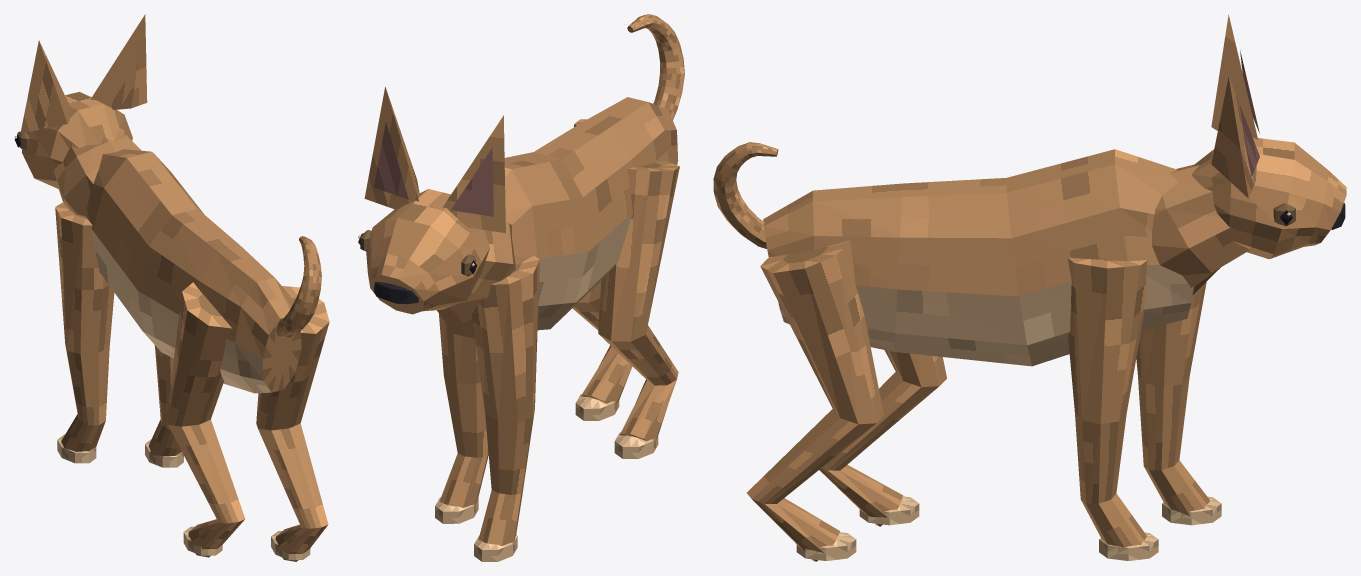
File: mon_dog_chihuahua.glb
3 views of the same model, side by side, from view 1: azimuth 30°, elevation 25°; view 2: azimuth 150°, elevation 25°; view 3: azimuth 270°, elevation 25° (orthographic). The views are drawn at different scales.
Visible parts, largest first — view 1: closed_body; view 2: closed_body; view 3: closed_body.
Part boxes in pixels (bbox=[...]): closed_body: bbox=[14, 14, 329, 561]; closed_body: bbox=[358, 14, 684, 561]; closed_body: bbox=[713, 15, 1346, 561].
Size of the model in its own units: 0.0979 by 0.3063 by 0.3532.
Materials: 1 (1 with a texture image).
